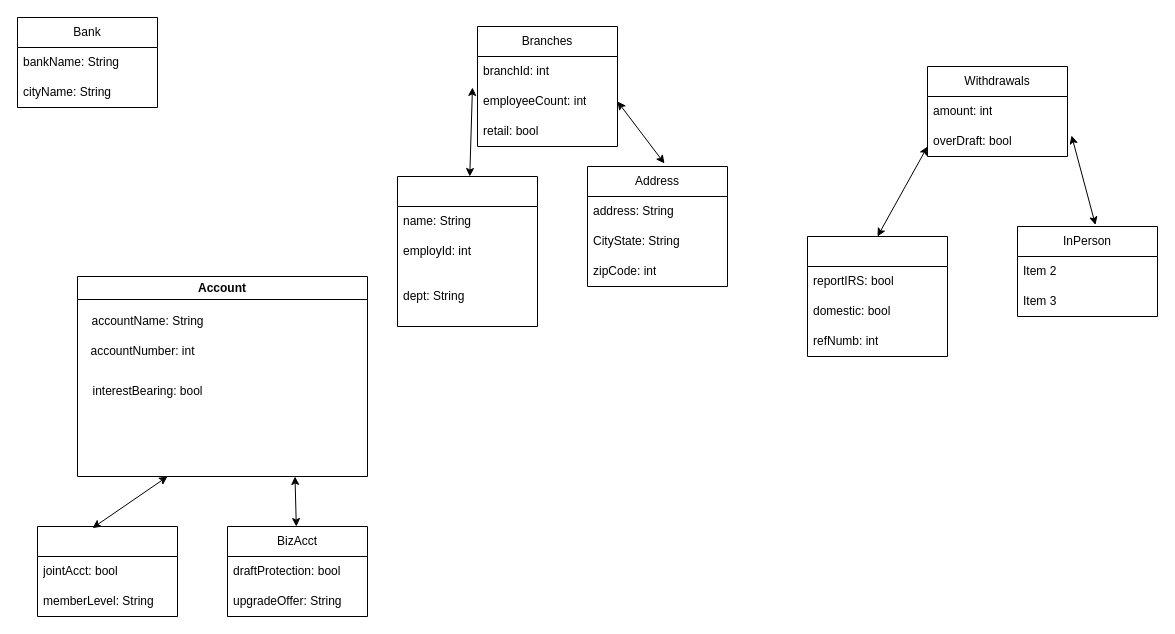
The diagram is 1175 pixels wide and 634 high, and some of its shapes have lost their labels. The shapes that lost their labels are listed below. From the top down, each one's box as (x1, y1, x2, y2) in pixels, then its label:
(396, 176, 538, 326): Employees
(806, 236, 948, 356): WireTransfers
(36, 526, 178, 616): IndAcct
